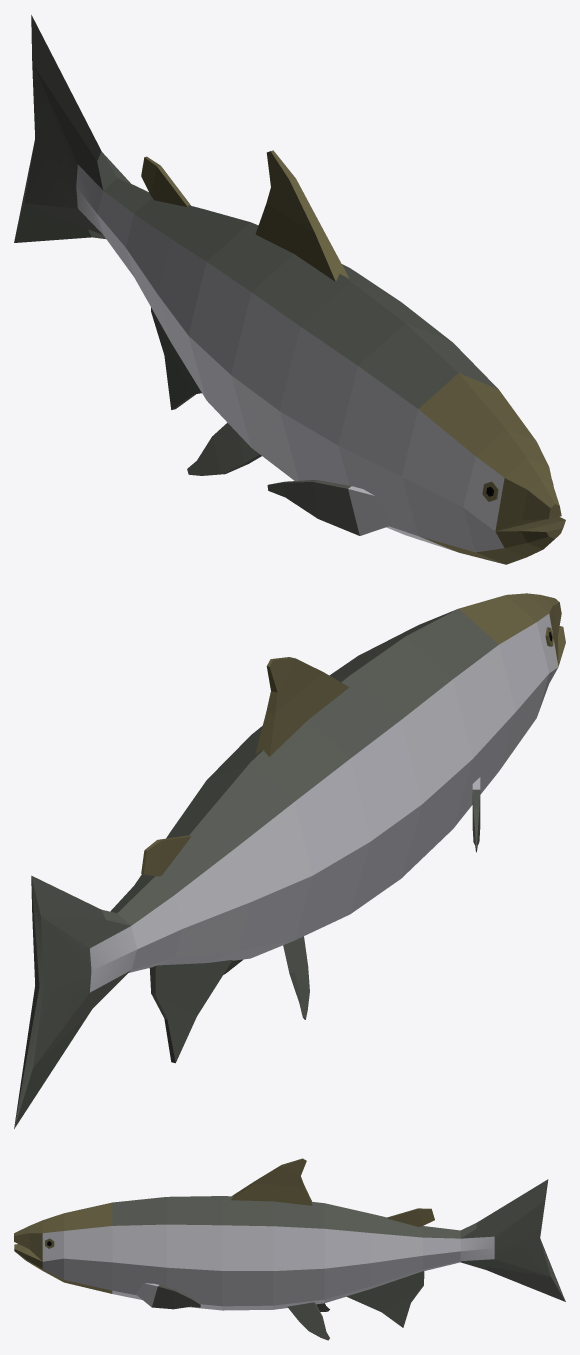
Rendered from mortEntry.gltf.
3 renders of one model, top to bottom at view 1: azimuth 30°, elevation 25°; view 2: azimuth 150°, elevation 25°; view 3: azimuth 270°, elevation 25°, orthographic. The views are drawn at different scales.
Visible parts, largest first — view 1: node-0; view 2: node-0; view 3: node-0.
Part boxes in pixels (x1,y1,x2,y2): node-0: (14, 15, 565, 564); node-0: (14, 593, 565, 1128); node-0: (14, 1158, 565, 1340).
Bounding box in the file's own units: 0.3911 × 0.591 × 1.75.
Materials: 1 (1 with a texture image).
